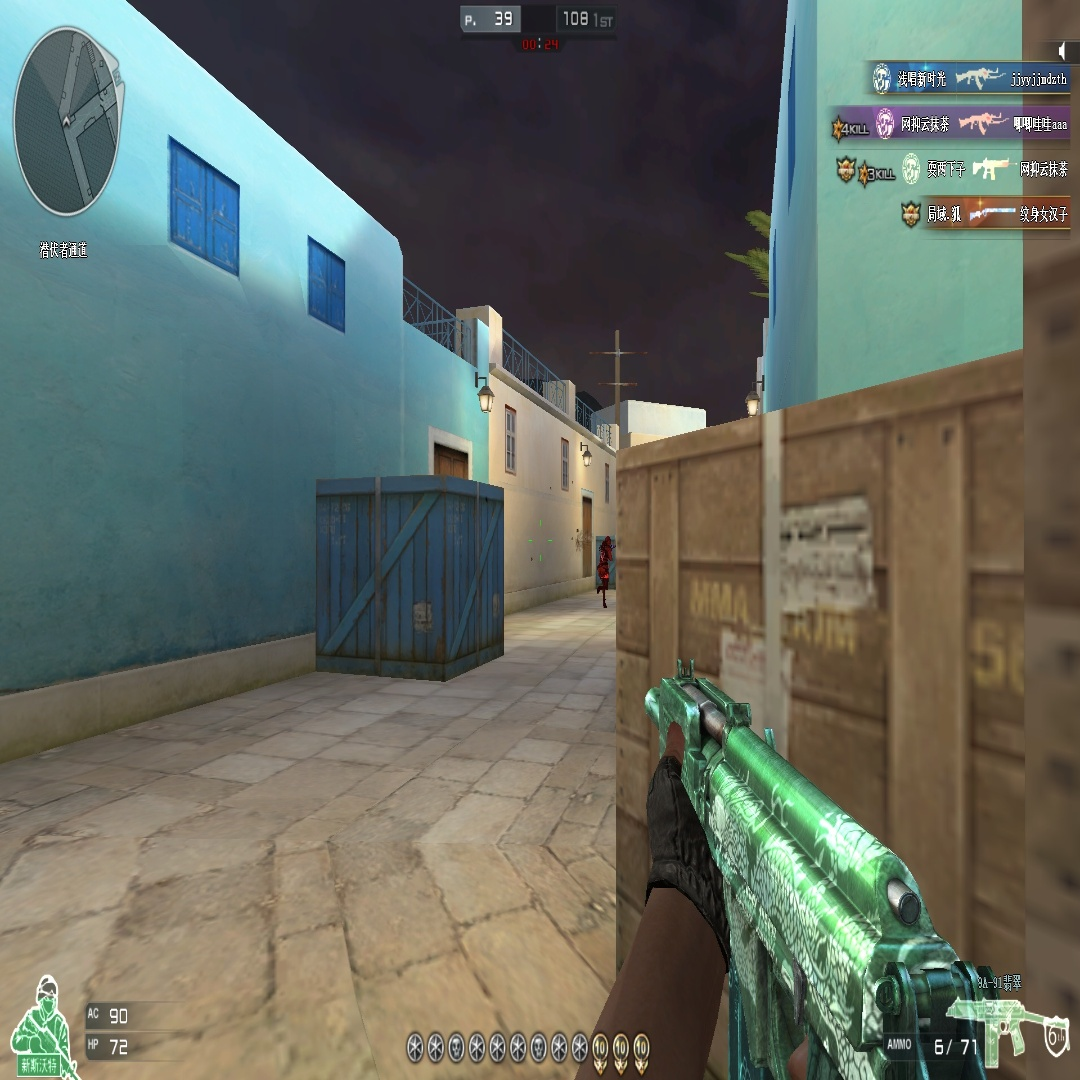p: (596, 540, 612, 608)
